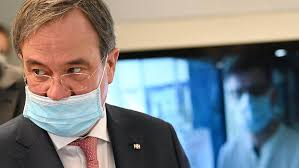mask_weared_incorrect: (24, 45, 104, 130)
with_mask: (227, 84, 279, 136)
